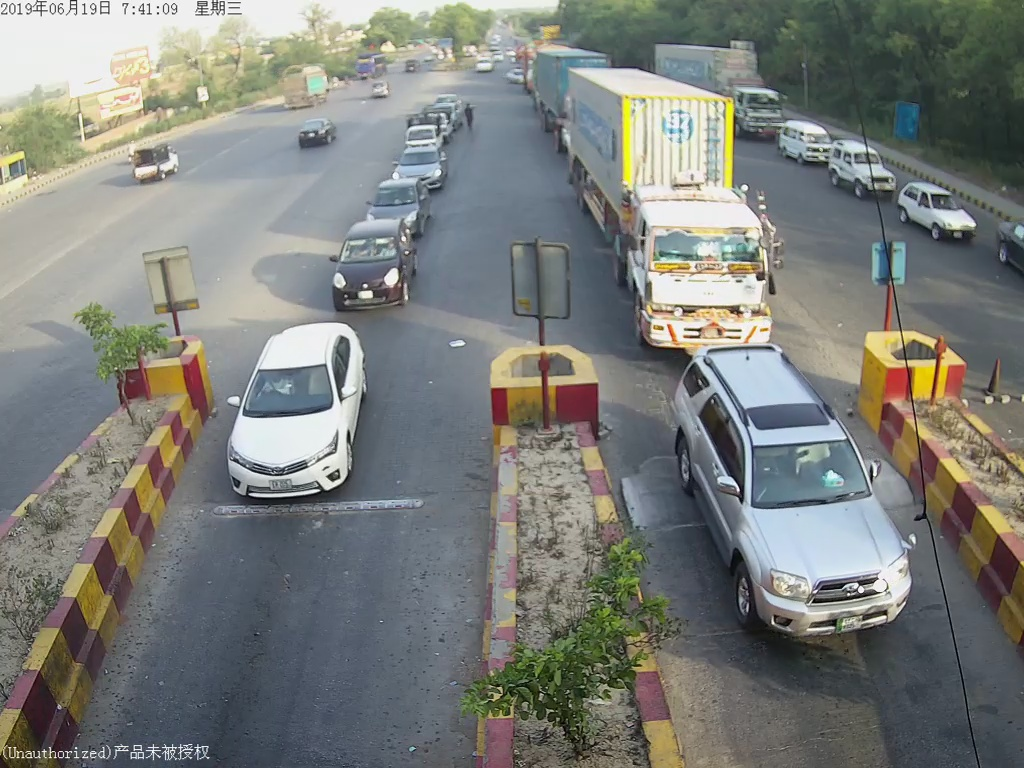Cat-1: (667, 353, 929, 649), (228, 324, 370, 512), (328, 224, 416, 314), (363, 183, 424, 224)
Cat-5: (570, 71, 777, 342)
